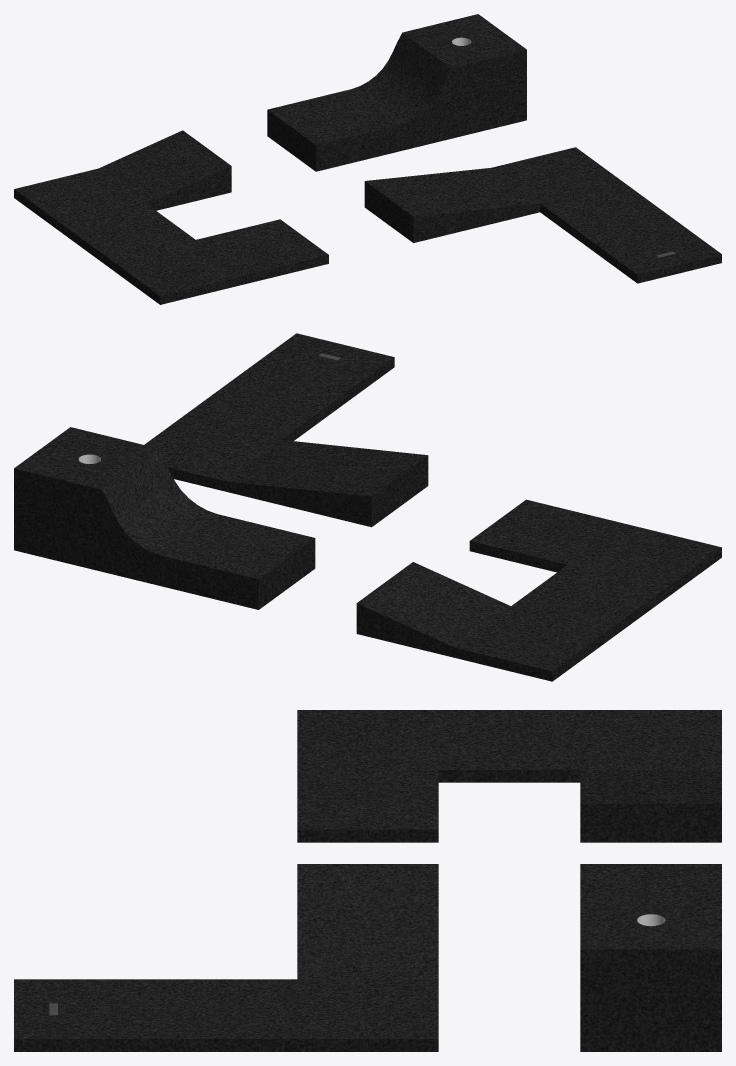
The model's file is Hole 7 Base.glb.
3 renders of one model, top to bottom at view 1: azimuth 30°, elevation 25°; view 2: azimuth 150°, elevation 25°; view 3: azimuth 270°, elevation 25°, orthographic. The views are drawn at different scales.
Parts seen in each view (by area): view 1: Hole 7 Base; view 2: Hole 7 Base; view 3: Hole 7 Base.
Boxes of the visible parts, box(x1,y1,x2,y2) form: Hole 7 Base: box(14, 14, 721, 304); Hole 7 Base: box(14, 333, 721, 681); Hole 7 Base: box(14, 710, 721, 1051).
Size of what is drawn, in the model's own units: 11 by 1.6 by 10.
3 materials, 1 textured.
